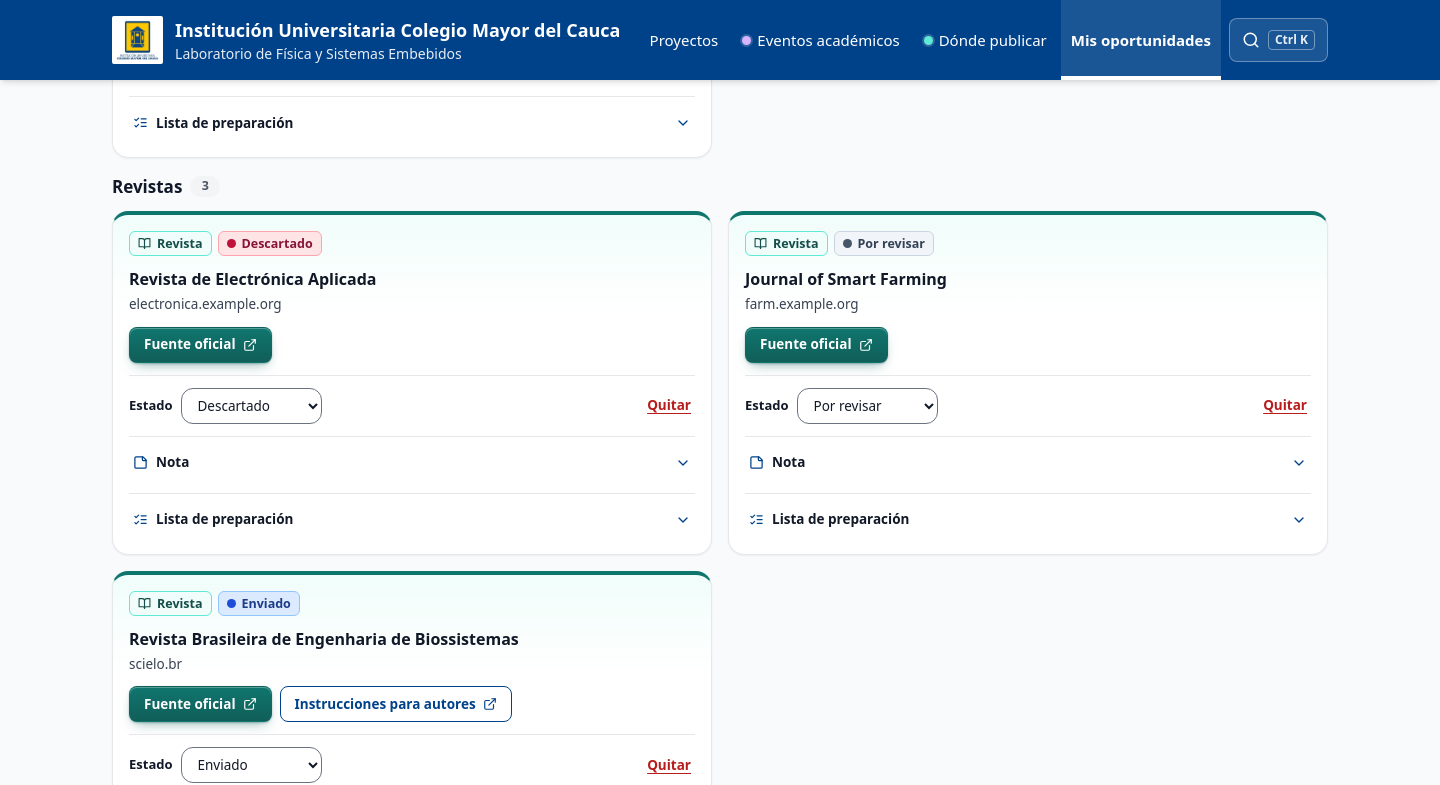
Scenario: compact cards › «Quitar» takes the item out of the storage and the list, with the confirm behavior it already had (none)
The image size is (1440, 785).
(page scrolled)
Click the 2nd button "Quitar": coordinates (1285, 406) [1259,389,1311,422]
(page scrolled)
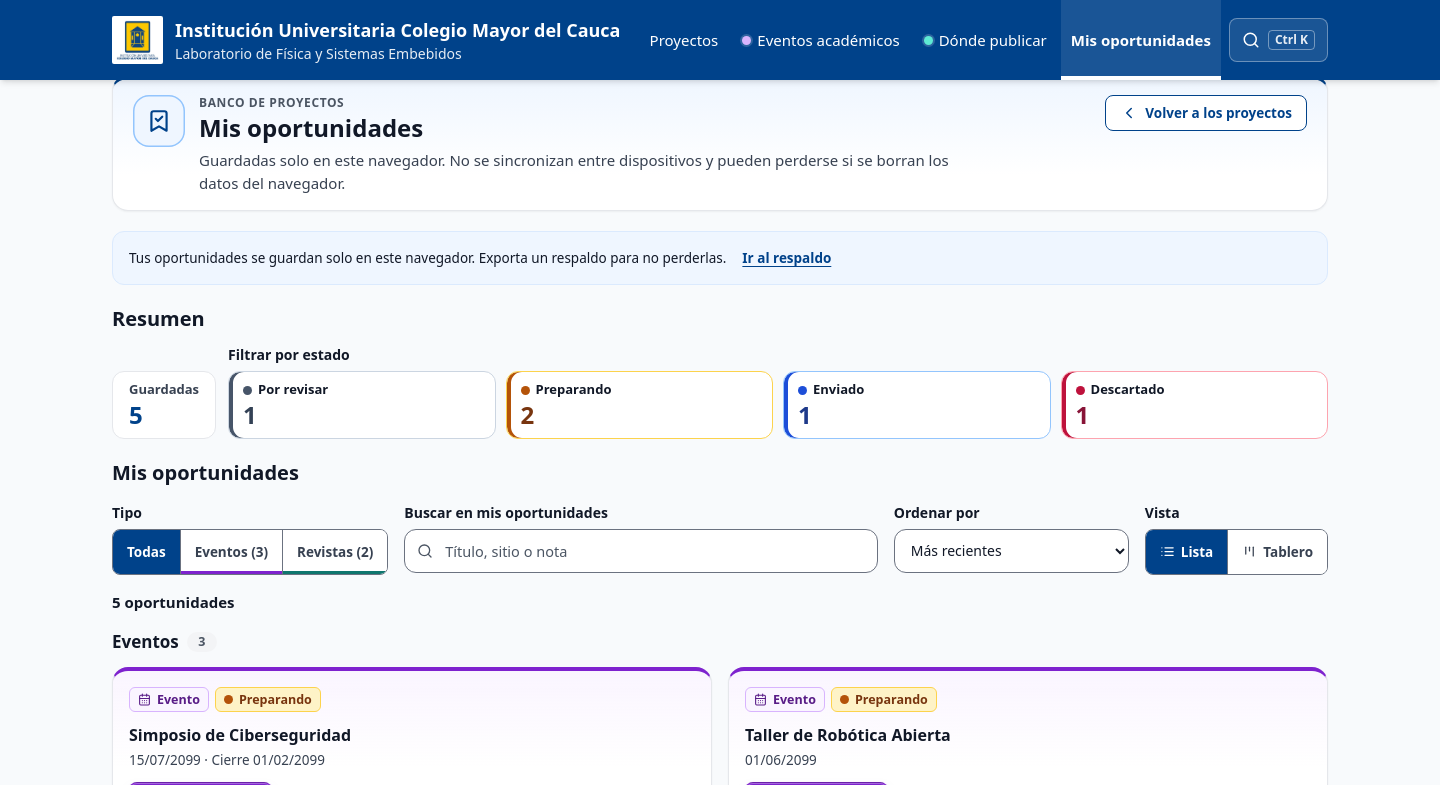
Now the heading "Journal of Smart Farming" no longer shows "Journal of Smart Farming"
